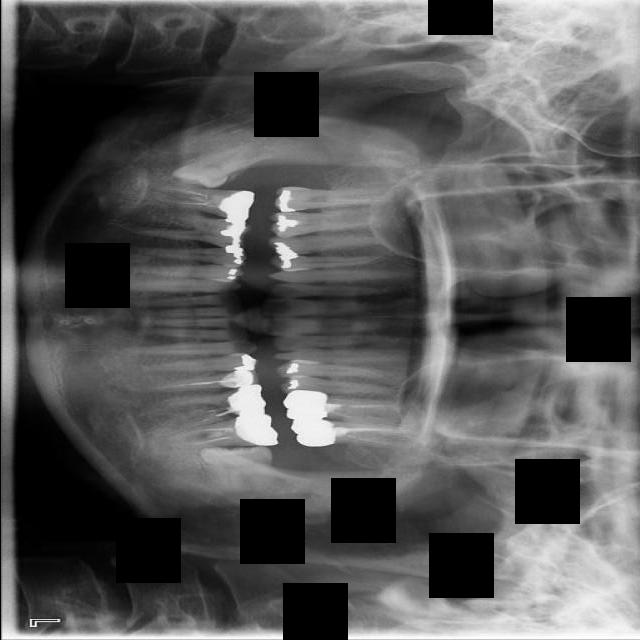52: (235, 408, 280, 454), (207, 211, 252, 257), (212, 182, 256, 226), (226, 381, 268, 424), (281, 389, 325, 420), (288, 418, 334, 447), (270, 210, 307, 238), (273, 186, 311, 212), (279, 374, 322, 396), (276, 358, 323, 378), (211, 245, 247, 268), (266, 235, 305, 255), (267, 254, 308, 273), (223, 369, 257, 390), (220, 353, 258, 371), (207, 264, 243, 283)
73: (162, 390, 234, 430), (327, 419, 415, 451), (148, 177, 222, 215), (162, 418, 243, 452), (322, 394, 400, 429), (151, 373, 226, 398), (46, 590, 62, 602)
BioHorizons Implant: (289, 418, 415, 448)
Biomet 3i Implant: (197, 445, 272, 496)
Blue Sky Bio Implant: (163, 413, 278, 450)
Caries: (272, 177, 393, 213)
Implant: (148, 182, 254, 223)
Keystone Dental Implant: (167, 138, 263, 202)
